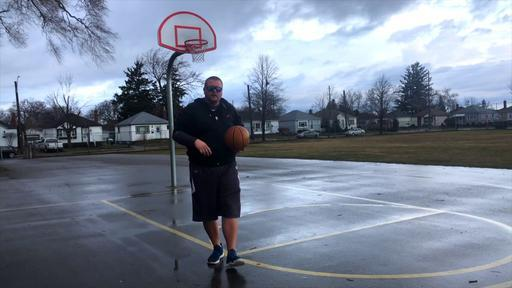ball: (226, 125, 250, 149)
human: (172, 76, 246, 267)
rim: (184, 38, 210, 63)
